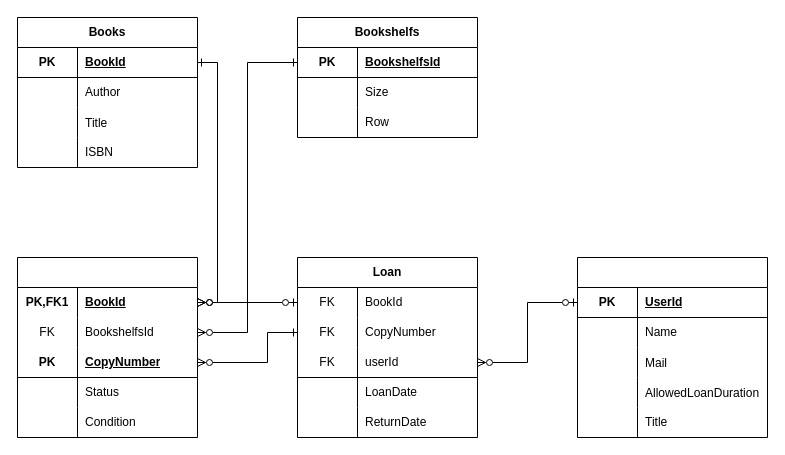
Some shapes in this 785 by 455 pixel diagram are drawn without their labels. The shapes that lost their labels are listed below. From the top down, each one's box as (x1, y1, x2, y2) in pixels, then its label:
(16, 256, 198, 438): BooksCopy
(576, 256, 768, 438): Users
